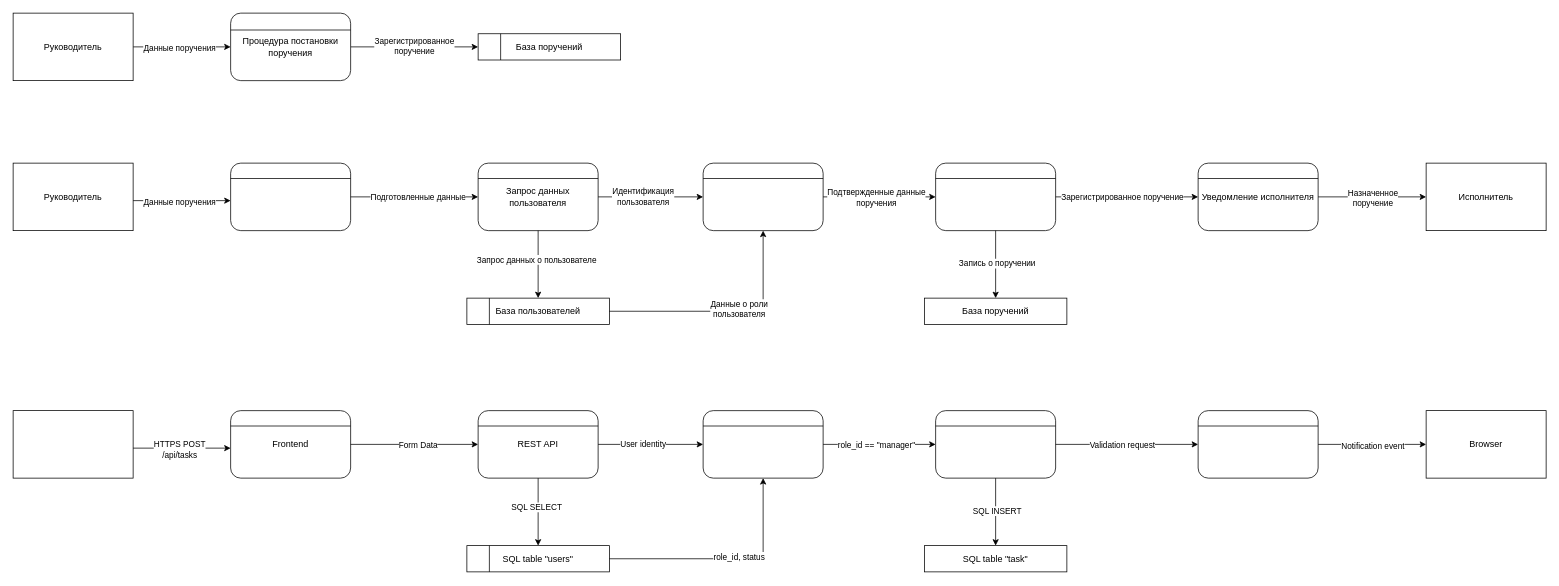
Some shapes in this 1559 by 586 pixel diagram are drawn without their labels. The shapes that lost their labels are listed below. From the top down, each one's box as (x1, y1, x2, y2) in pixels, then its label:
(230, 162, 351, 231): Формирование поручения
(702, 162, 823, 231): Проверка полномочий
(935, 162, 1056, 231): Регистрация поручения
(12, 410, 133, 478): Web-client
(702, 410, 823, 478): RBAC Middleware
(935, 410, 1056, 478): Service Layer
(1197, 410, 1318, 478): Notification Service
